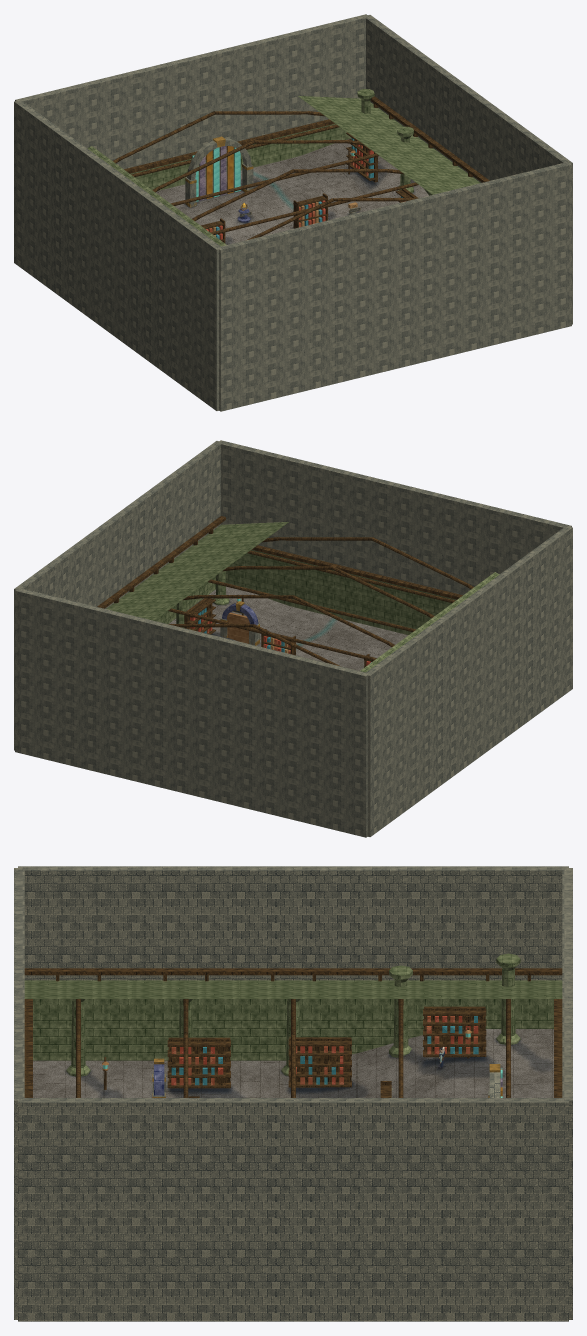
The model's file is FloodLedger-ce141f804f33.glb.
The picture shows the model from 3 angles, top to bottom: view 1: azimuth 30°, elevation 25°; view 2: azimuth 150°, elevation 25°; view 3: azimuth 270°, elevation 25°; orthographic projection. The views are drawn at different scales.
Parts seen in each view (by area): view 1: C_Solids, Rim, Terrain, Set; view 2: C_Solids, Rim, Terrain, Set; view 3: C_Solids, Rim, Terrain, Set.
Boxes of the visible parts, box(x1,y1,x2,y2) form: C_Solids: box(14, 14, 572, 411); Rim: box(87, 96, 489, 246); Terrain: box(155, 138, 428, 244); Set: box(185, 89, 417, 243); C_Solids: box(14, 440, 572, 837); Rim: box(97, 516, 499, 672); Terrain: box(169, 586, 408, 670); Set: box(176, 571, 376, 667); C_Solids: box(14, 866, 572, 1321); Rim: box(24, 968, 562, 1097); Terrain: box(33, 1029, 553, 1097); Set: box(66, 953, 520, 1097).
Size of the model in its own units: 41.6 by 18 by 41.6.
Materials: 17 (17 with a texture image).
